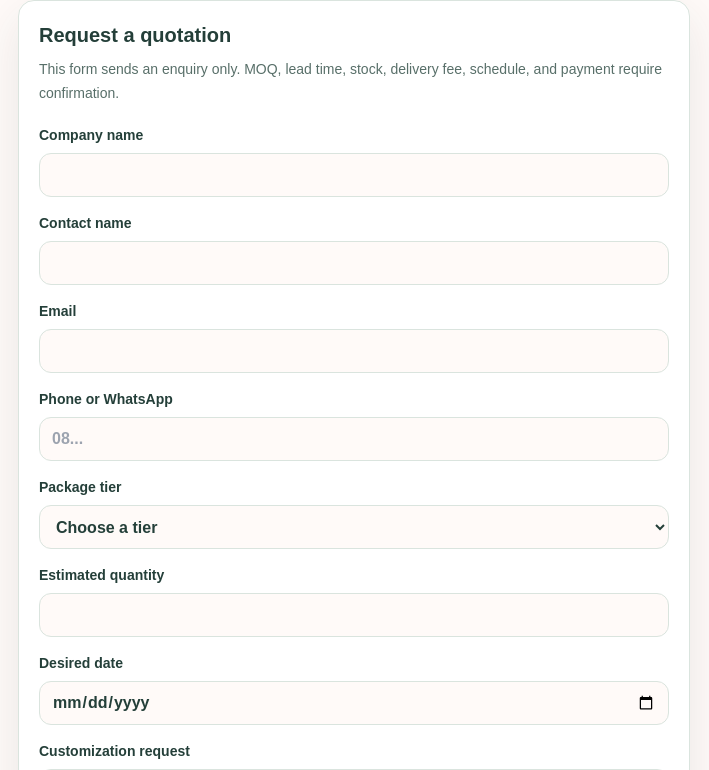
CorporateEnquiryForm › keeps estimated quantity digit-only without changing the amount
The image size is (709, 770).
Type "500pcs" into the field labelled "Estimated quantity" at (354, 615), box [39, 593, 669, 637]
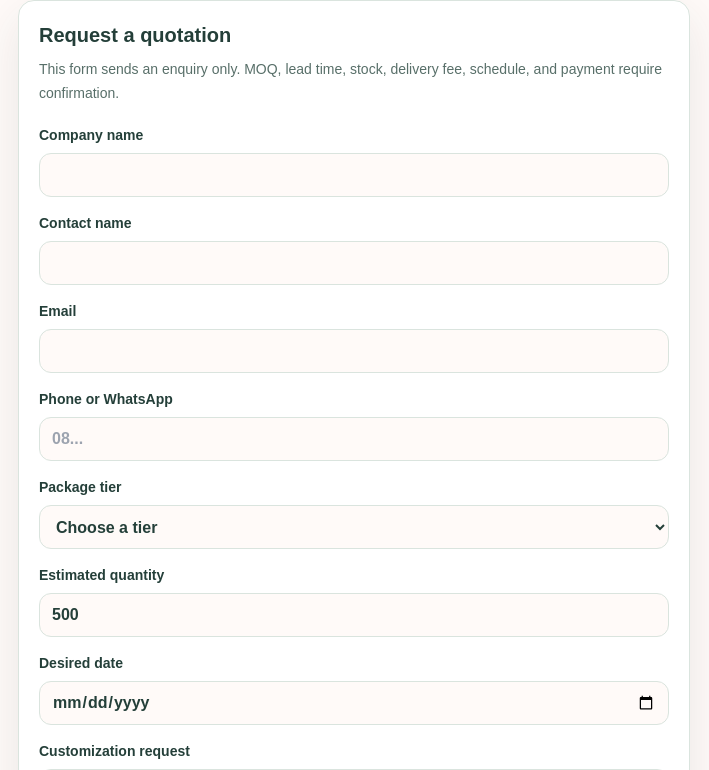
Check: the field labelled "Estimated quantity" holds "500", box [39, 593, 669, 637]
